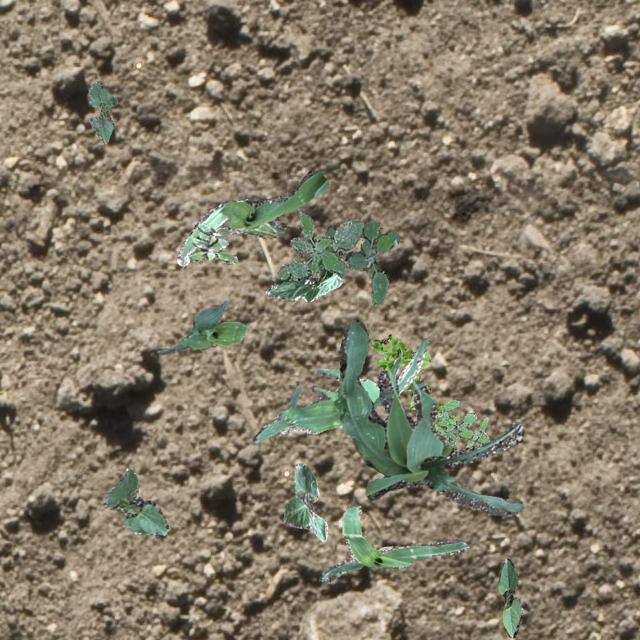crop: (333, 318, 522, 514), (252, 338, 428, 442), (176, 170, 326, 266), (320, 504, 468, 582), (156, 300, 248, 354), (102, 466, 168, 536), (282, 462, 326, 540), (264, 266, 342, 300), (86, 80, 116, 144), (498, 558, 522, 636)
weed: (371, 334, 442, 432), (324, 220, 399, 304), (276, 211, 362, 281), (436, 398, 488, 450), (188, 222, 236, 262)
